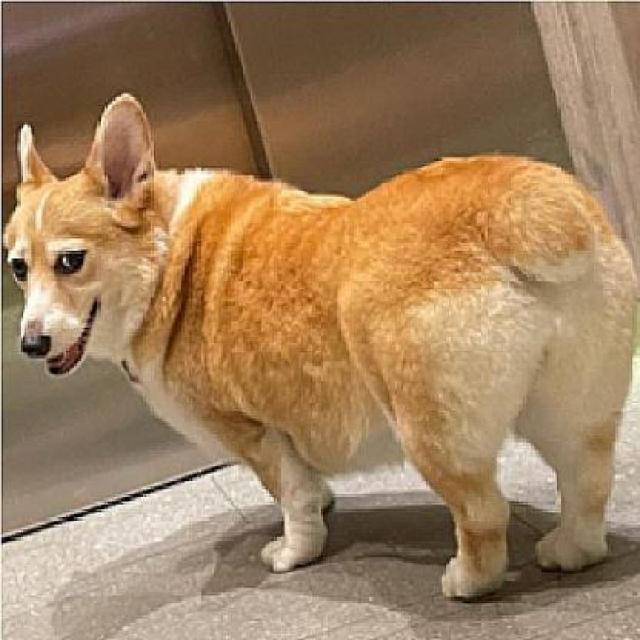Dog: (4, 94, 638, 606)
